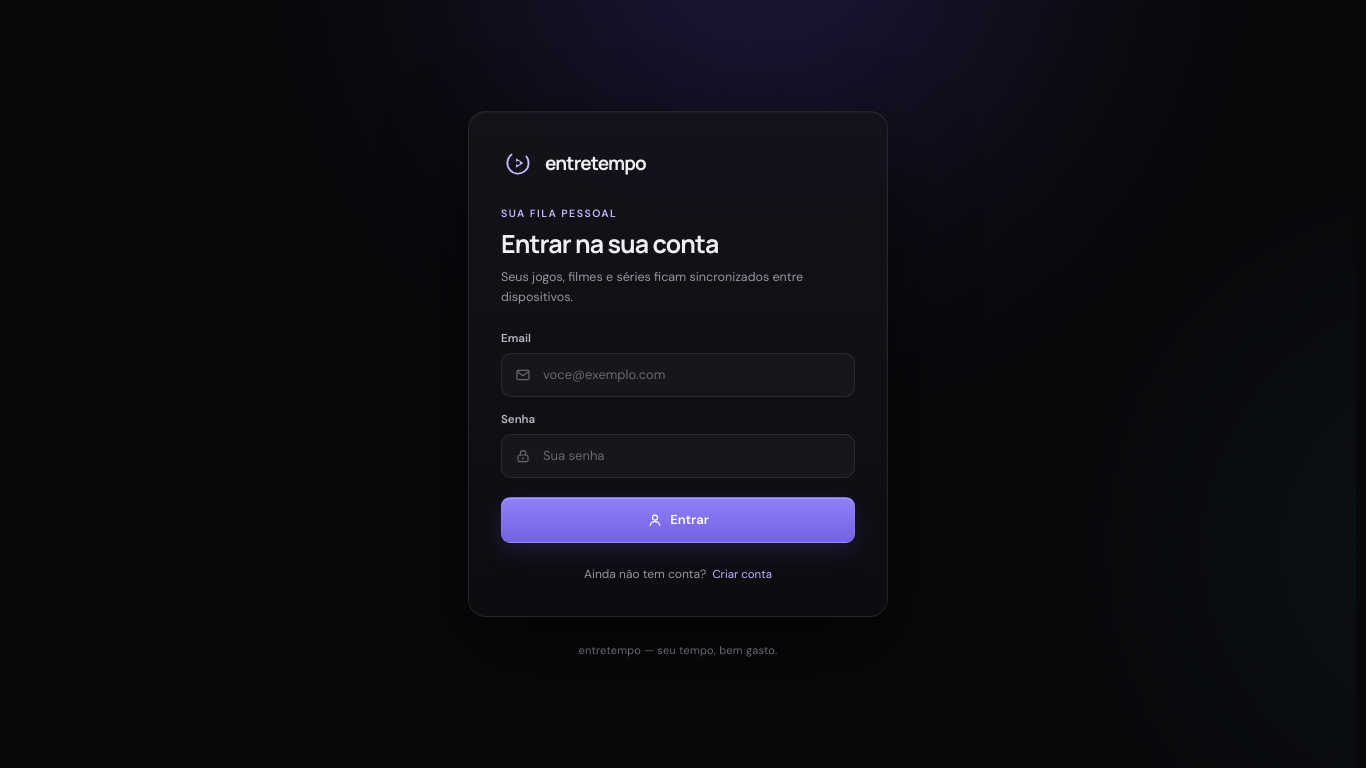
Scenario: LoginScreen › cria conta e avisa sobre a confirmação por email
Click the button "Criar conta" at (742, 574), box 712,563 -> 772,586
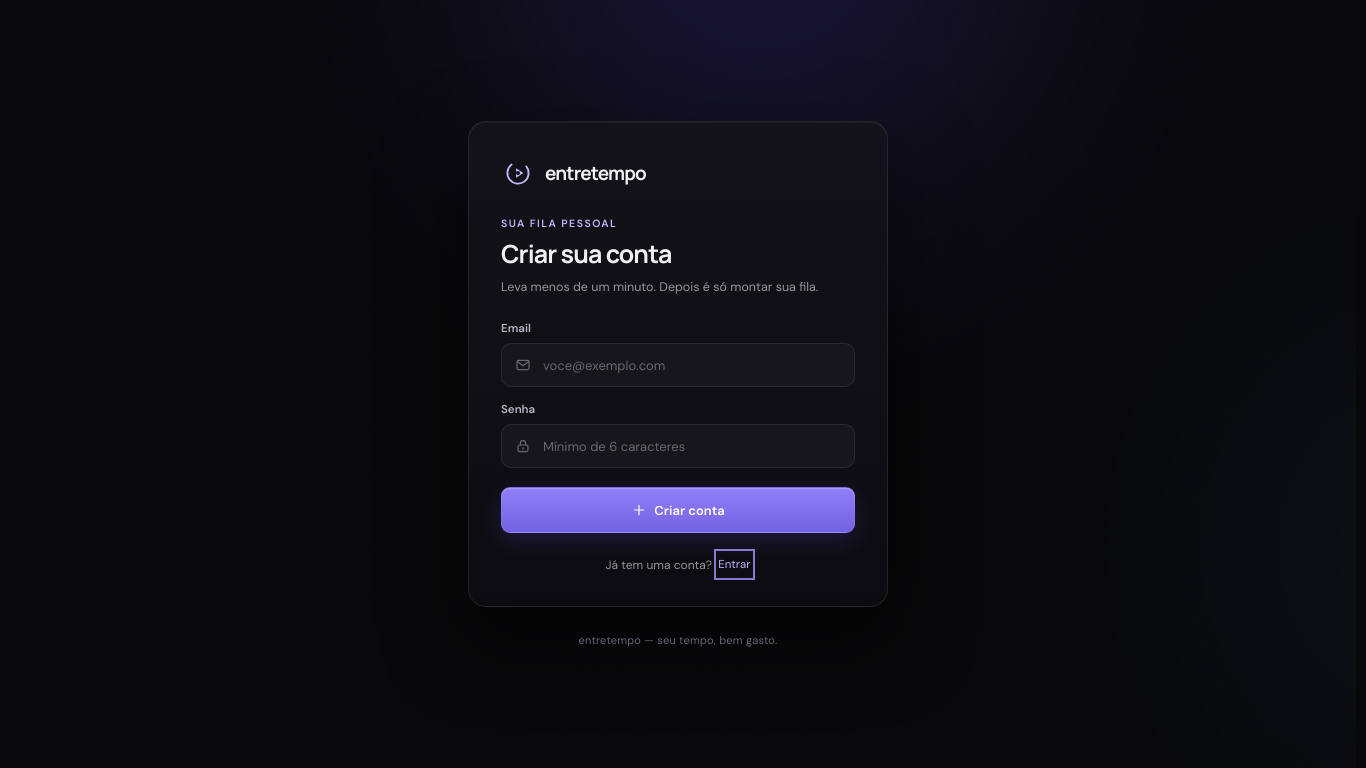
Type "novo@b.com" into the field labelled "Email" at (691, 365), box 541,344 -> 841,386
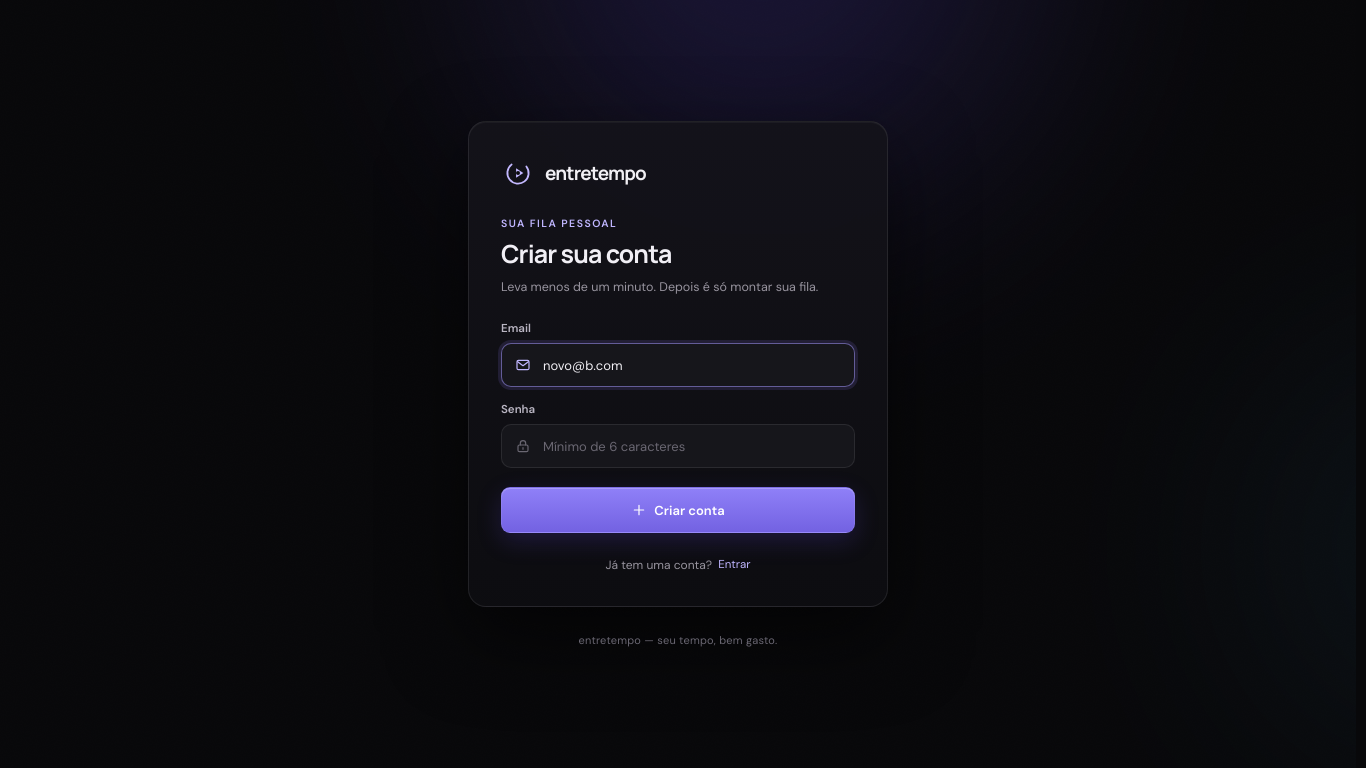
Type "segredo" into the password field labelled "Senha" at (691, 446), box 541,425 -> 841,467
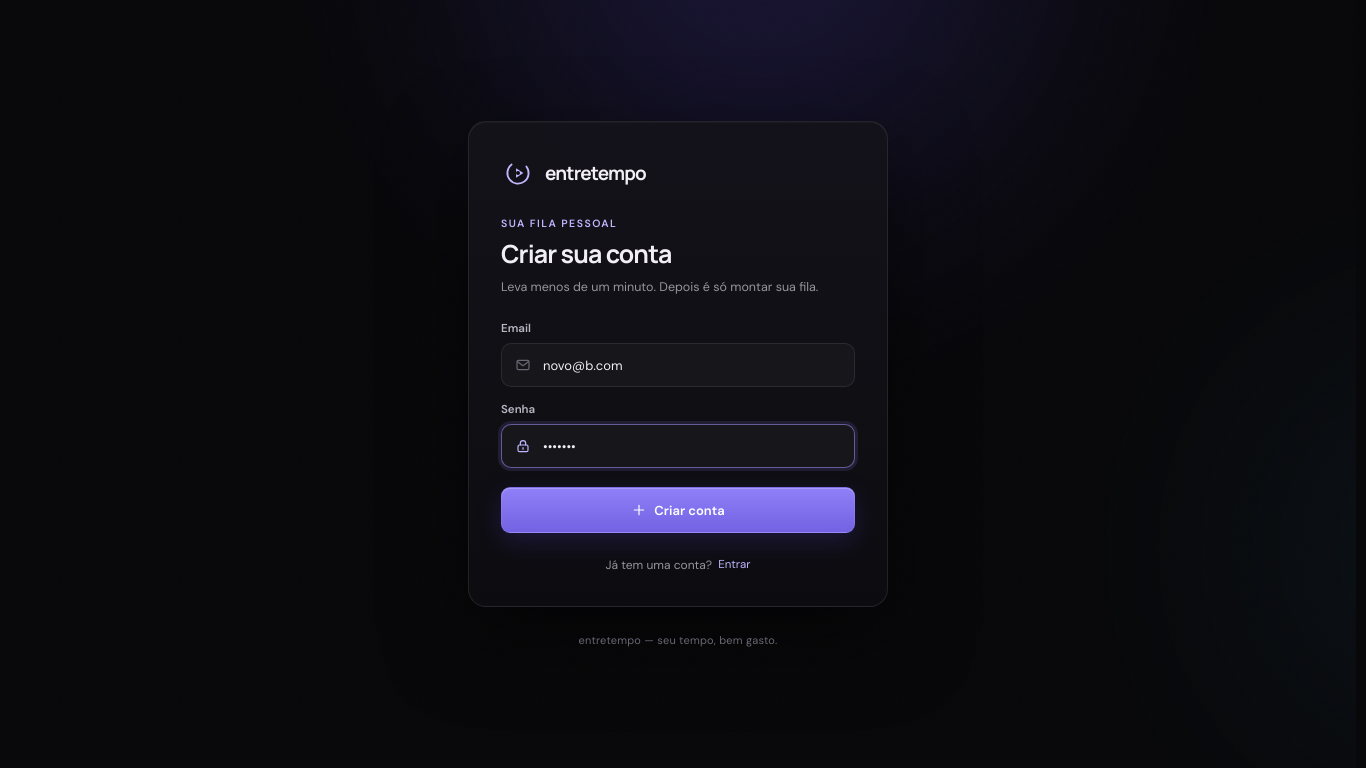
Click the button "Criar conta" at (678, 510), box 501,487 -> 855,533
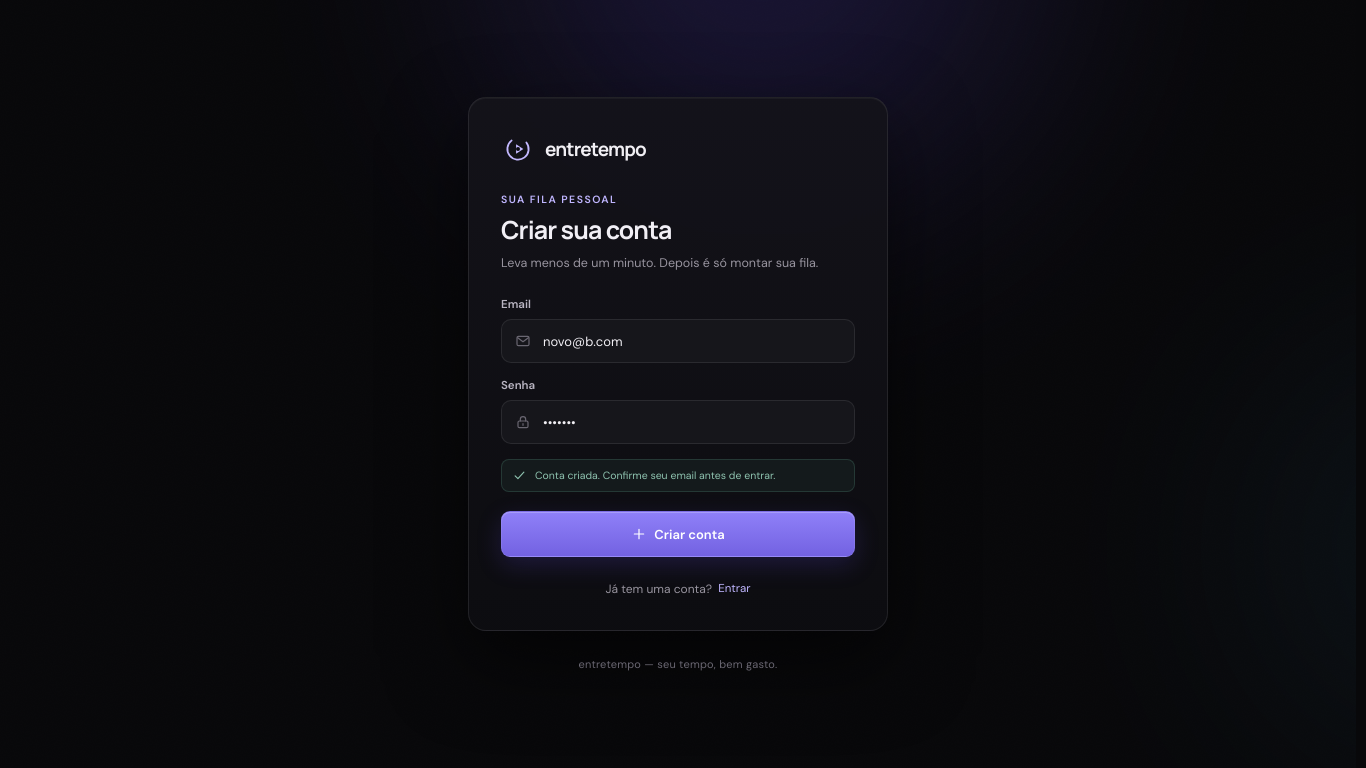
Check: the message shows "Confirme seu email", box 535,469 -> 776,482
